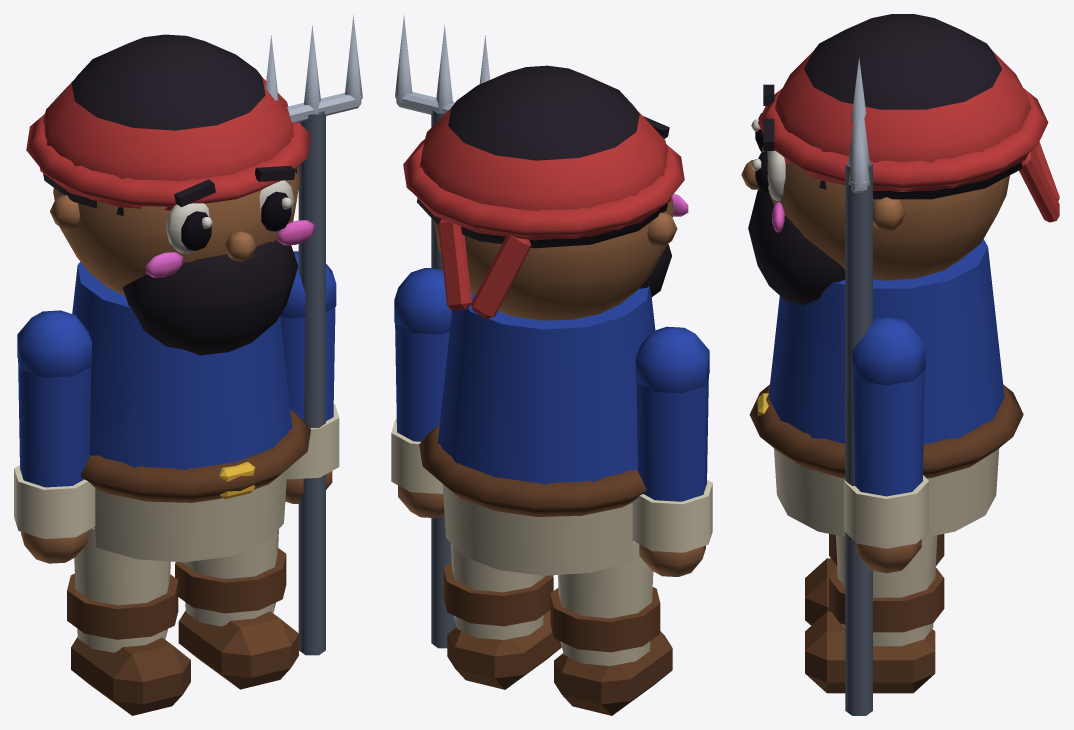
File: hero_marin.glb
The picture shows the model from 3 angles, left to right: view 1: azimuth 30°, elevation 25°; view 2: azimuth 150°, elevation 25°; view 3: azimuth 270°, elevation 25°; orthographic projection. The views are drawn at different scales.
Visible parts, largest first — view 1: body_t0_palette, armr_t0_palette, arml_t0_palette, legl_t0_palette, legr_t0_palette; view 2: body_t0_palette, arml_t0_palette, armr_t0_palette, legl_t0_palette, legr_t0_palette; view 3: body_t0_palette, armr_t0_palette, legr_t0_palette, legl_t0_palette.
Part boxes in pixels (bbox=[...]): body_t0_palette: bbox=[26, 34, 314, 562]; armr_t0_palette: bbox=[265, 14, 362, 655]; arml_t0_palette: bbox=[14, 310, 95, 563]; legl_t0_palette: bbox=[67, 527, 190, 715]; legr_t0_palette: bbox=[175, 529, 298, 689]; body_t0_palette: bbox=[403, 65, 688, 575]; arml_t0_palette: bbox=[632, 326, 712, 576]; armr_t0_palette: bbox=[391, 15, 490, 648]; legl_t0_palette: bbox=[550, 541, 672, 715]; legr_t0_palette: bbox=[443, 543, 561, 689]; body_t0_palette: bbox=[741, 14, 1059, 538]; armr_t0_palette: bbox=[844, 57, 928, 715]; legr_t0_palette: bbox=[805, 535, 944, 693]; legl_t0_palette: bbox=[805, 534, 944, 625].
Bounding box in the file's own units: 0.282 × 0.515 × 0.2322.
